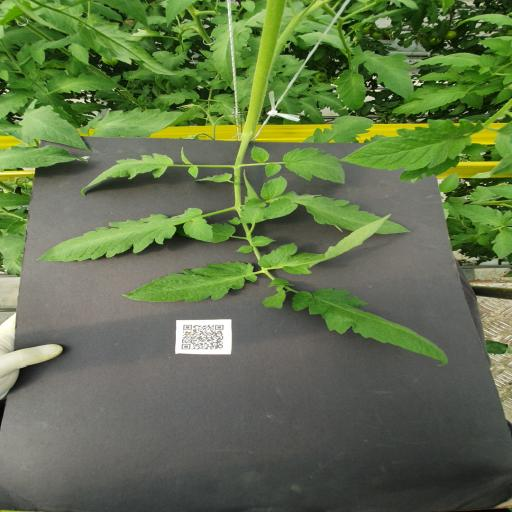Healthy: (290, 288, 448, 368), (35, 207, 214, 262), (258, 213, 392, 275), (339, 118, 484, 171), (263, 191, 412, 236), (122, 261, 258, 303), (80, 152, 175, 197), (351, 50, 418, 103), (18, 105, 92, 152), (88, 106, 187, 138), (210, 19, 253, 86), (0, 144, 89, 174), (281, 148, 346, 185), (408, 52, 495, 74), (391, 89, 467, 114), (46, 71, 122, 95), (448, 202, 512, 227), (332, 68, 366, 111), (330, 115, 374, 143), (0, 88, 36, 120), (153, 88, 200, 106), (316, 91, 349, 116), (455, 14, 512, 28), (474, 36, 512, 57), (490, 227, 512, 260), (260, 176, 288, 199), (418, 71, 467, 83), (68, 44, 91, 68), (261, 290, 287, 309), (482, 184, 512, 200), (440, 172, 460, 194), (250, 145, 270, 163), (264, 163, 282, 178)
